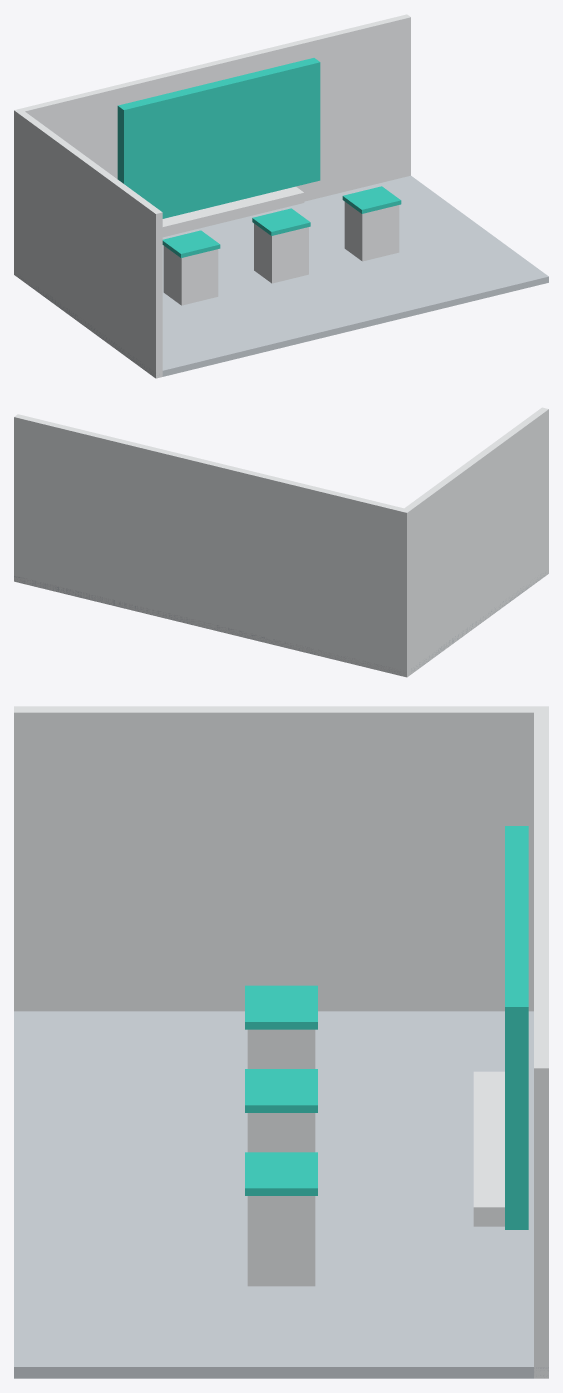
The picture shows the model from 3 angles, top to bottom: view 1: azimuth 30°, elevation 25°; view 2: azimuth 150°, elevation 25°; view 3: azimuth 270°, elevation 25°; orthographic projection. The views are drawn at different scales.
Parts seen in each view (by area): view 1: Exhibition Booth Concept; view 2: Exhibition Booth Concept; view 3: Exhibition Booth Concept.
Part boxes in pixels (x1,y1,x2,y2): Exhibition Booth Concept: (14, 14, 548, 378); Exhibition Booth Concept: (14, 407, 548, 677); Exhibition Booth Concept: (14, 706, 548, 1378).
Size of the model in its own units: 8 by 3.2 by 5.
